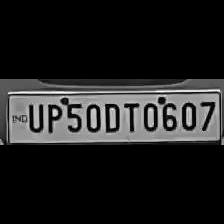0: (82, 100, 102, 134), (139, 98, 159, 132), (176, 98, 196, 132)
5: (62, 98, 82, 134)
6: (158, 98, 178, 132)
7: (196, 98, 216, 132)
D: (102, 99, 122, 133)
P: (42, 100, 62, 134)
T: (120, 99, 140, 133)
U: (24, 100, 44, 134)
